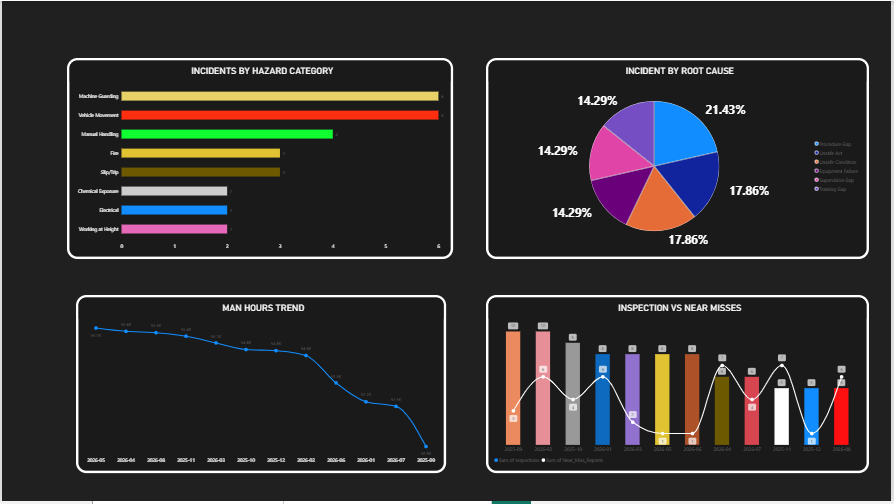

The dashboard page shown, as its layout file describes it:
{"tool":"powerbi","page":{"name":"HSE PERFORMANCE ANALYSIS","canvas":[2560,1440],"ordinal":1},"visuals":[{"type":"clusteredBarChart","title":"INCIDENTS BY HAZARD CATEGORY","fields":{"Category":["HSE_Incident_Register.Hazard_Category"],"Y":["CountNonNull(HSE_Incident_Register.Incident_ID)"]},"box":[187.2,164.2,1111.7,578.9],"z":0},{"type":"pieChart","title":"INCIDENT BY ROOT CAUSE","fields":{"Category":["HSE_Incident_Register.Root_Cause_Category"],"Y":["CountNonNull(HSE_Incident_Register.Incident_ID)"]},"box":[1393.9,164.2,1103,578.9],"z":1000},{"type":"lineChart","title":"MAN HOURS TREND","fields":{"Category":["Dim_Month.Year_Month"],"Y":["Sum(HSE_Monthly_KPI.Man_Hours_Worked)"]},"box":[213.1,846.7,1065.6,512.6],"z":2000},{"type":"lineClusteredColumnComboChart","title":"INSPECTION VS NEAR MISSES","fields":{"Category":["Dim_Month.Year_Month"],"Y":["Sum(HSE_Department_KPIs.Inspections)"],"Y2":["Sum(HSE_Department_KPIs.Near_Miss_Reports)"]},"box":[1393.9,846.7,1103,512.6],"z":3000}]}

Visuals, with their boxes in screenshot pixels (x1, y1, x2, y2), scaled from the page's 2560x1440 canvas onto the 894x504 screenshot:
"INCIDENTS BY HAZARD CATEGORY" clusteredBarChart: 65, 57, 454, 260
"INCIDENT BY ROOT CAUSE" pieChart: 487, 57, 872, 260
"MAN HOURS TREND" lineChart: 74, 296, 447, 476
"INSPECTION VS NEAR MISSES" lineClusteredColumnComboChart: 487, 296, 872, 476
